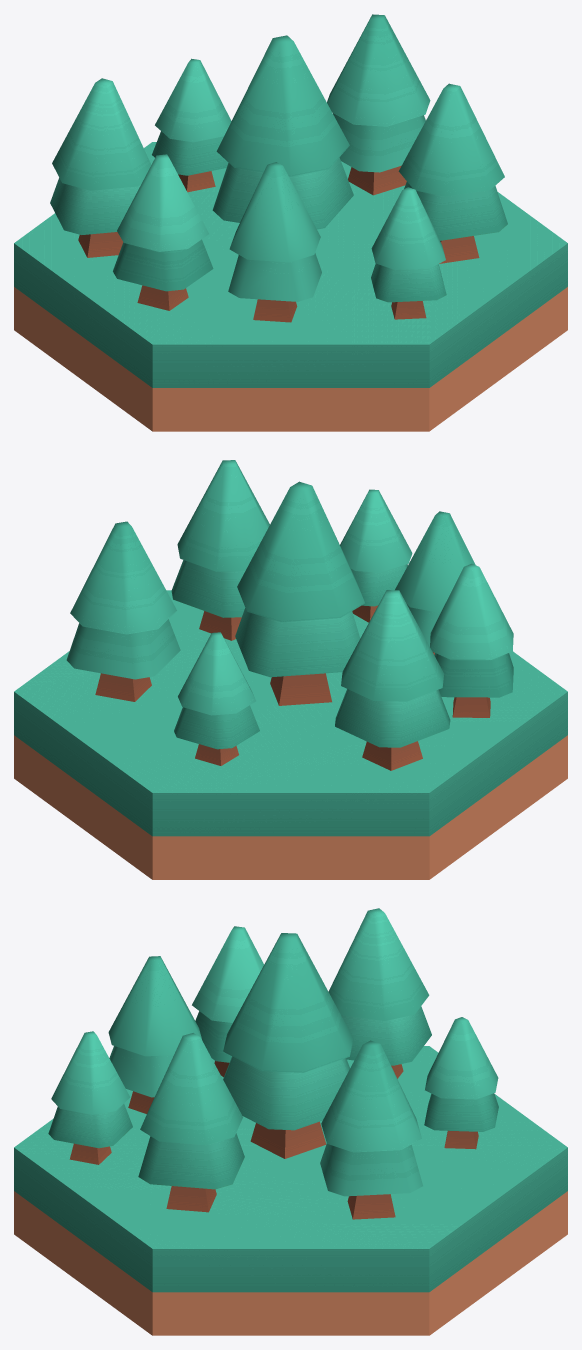
File: grass_forest.glb
The picture shows the model from 3 angles, top to bottom: view 1: azimuth 30°, elevation 25°; view 2: azimuth 150°, elevation 25°; view 3: azimuth 270°, elevation 25°; orthographic projection.
Visible parts, largest first — view 1: grass-forest; view 2: grass-forest; view 3: grass-forest.
Part boxes in pixels (x1,y1,x2,y2): grass-forest: [14, 14, 567, 431]; grass-forest: [14, 460, 567, 879]; grass-forest: [14, 908, 567, 1335].
Size of the model in its own units: 1 by 0.675 by 1.15.
1 material, 1 textured.
